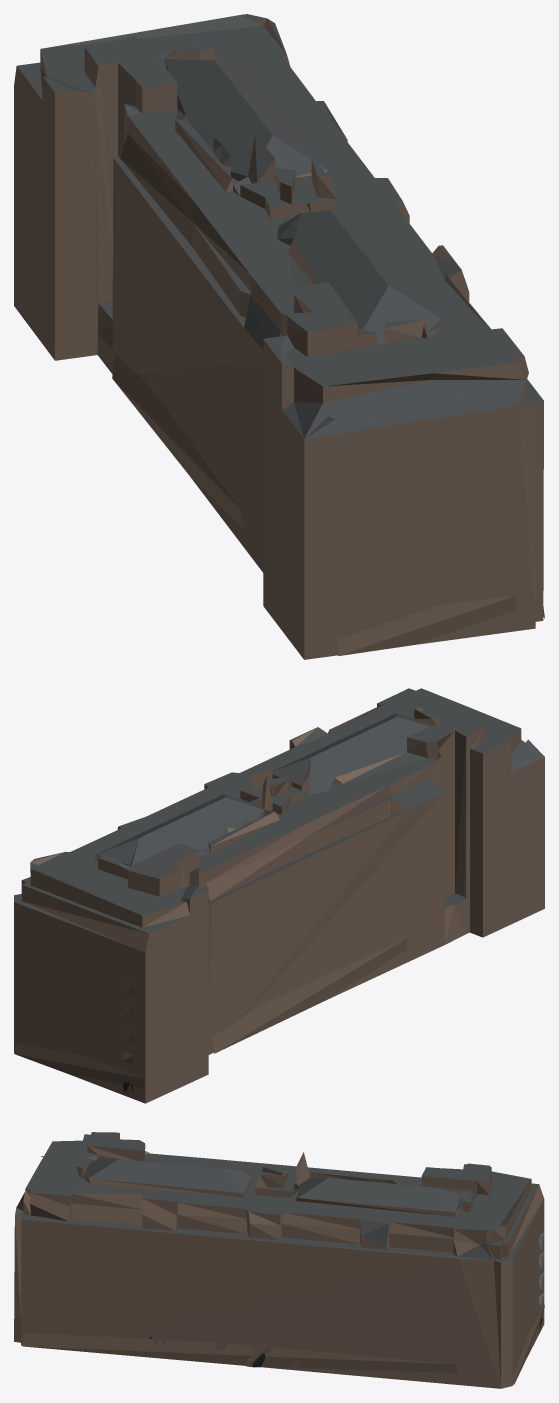
File: de-bazel.lod2.glb
3 views of the same model, one above another, from view 1: azimuth 30°, elevation 25°; view 2: azimuth 150°, elevation 25°; view 3: azimuth 270°, elevation 25° (orthographic). The views are drawn at different scales.
Visible parts, largest first — view 1: lod2; view 2: lod2; view 3: lod2.
Boxes of the visible parts, x1,y1,x2,y2 form: lod2: (14, 14, 544, 659); lod2: (14, 688, 544, 1103); lod2: (14, 1132, 544, 1388).
Bounding box in the file's own units: 50.04 × 40.51 × 107.
